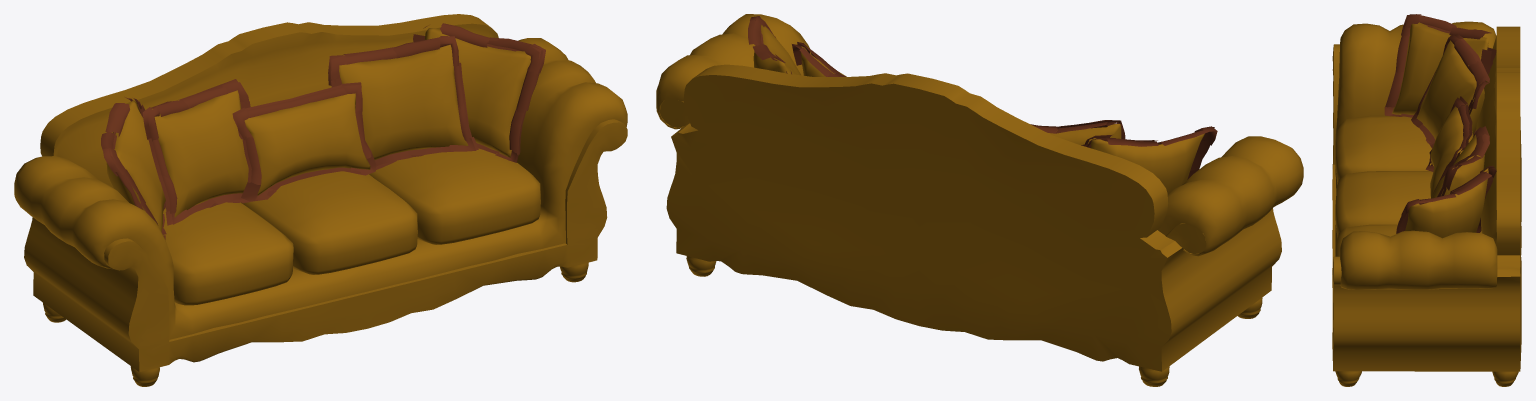
The model's file is sofa1.glb.
3 views of the same model, side by side, from view 1: azimuth 30°, elevation 25°; view 2: azimuth 150°, elevation 25°; view 3: azimuth 270°, elevation 25° (orthographic). The views are drawn at different scales.
Parts seen in each view (by area): view 1: sofa_03; view 2: sofa_03; view 3: sofa_03.
Boxes of the visible parts, box(x1,y1,x2,y2) form: sofa_03: box(14, 14, 627, 386); sofa_03: box(656, 14, 1303, 386); sofa_03: box(1332, 14, 1521, 386).
Bounding box in the file's own units: 2.73 × 1.12 × 0.9251.
